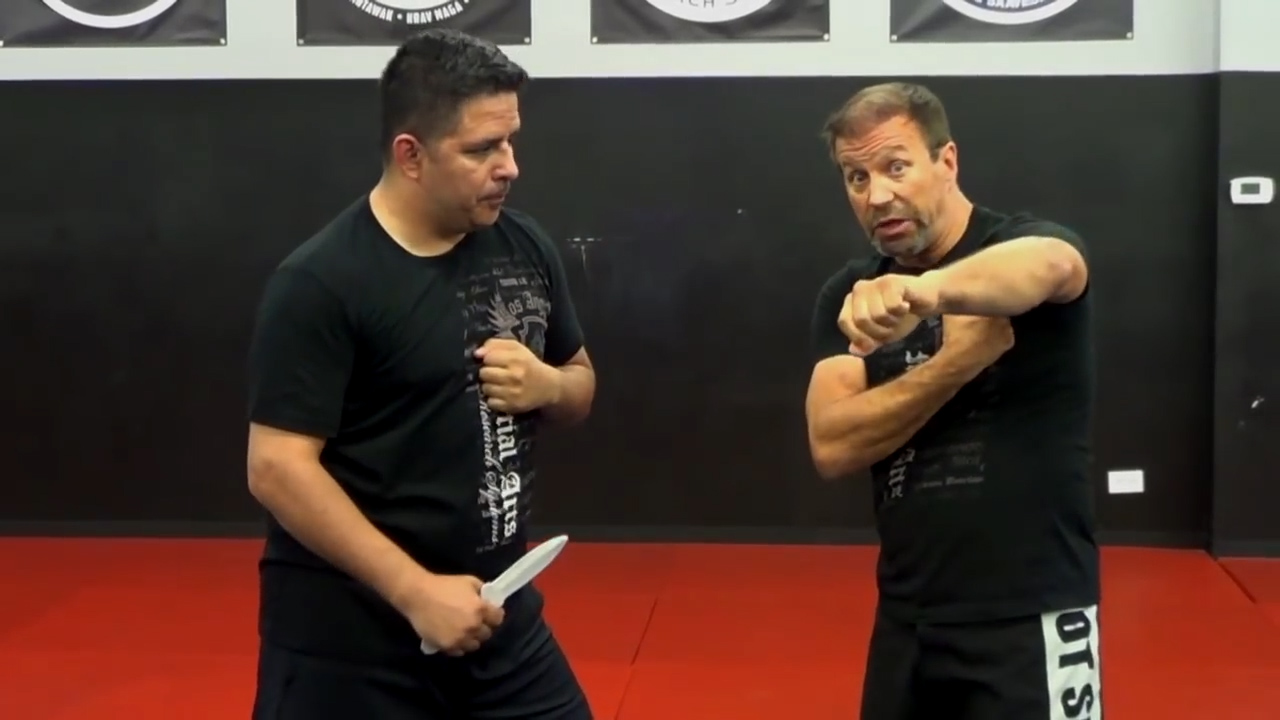knife: (408, 521, 578, 666)
